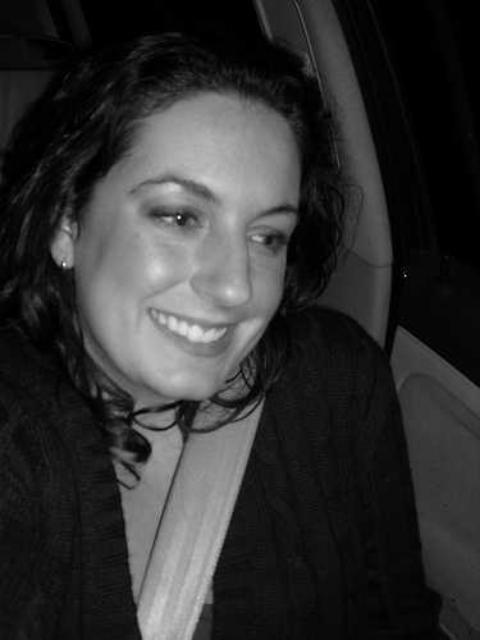SafeDriving: (138, 188, 212, 237), (236, 210, 300, 256)
Seatbelt: (132, 366, 270, 640)
